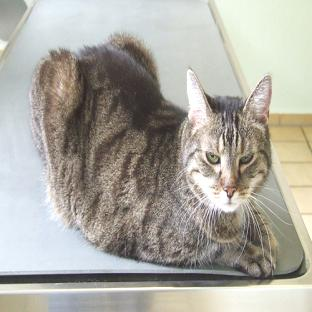Animal: (30, 33, 278, 277)
